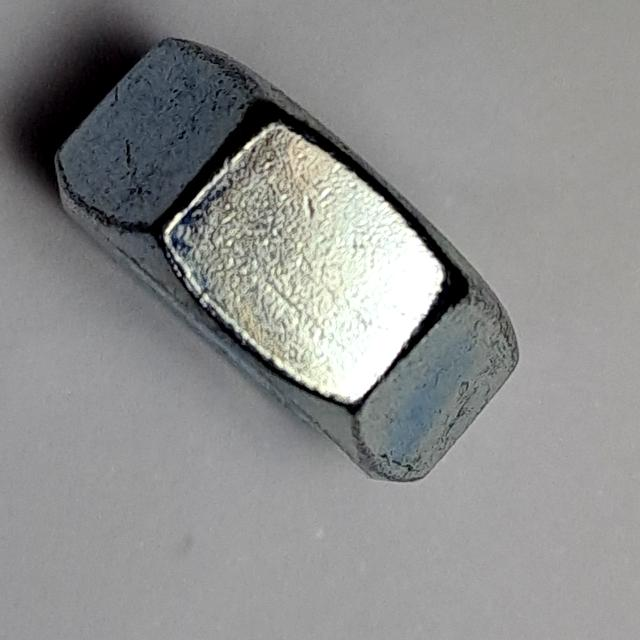Side_Excellent: (36, 21, 541, 492)
